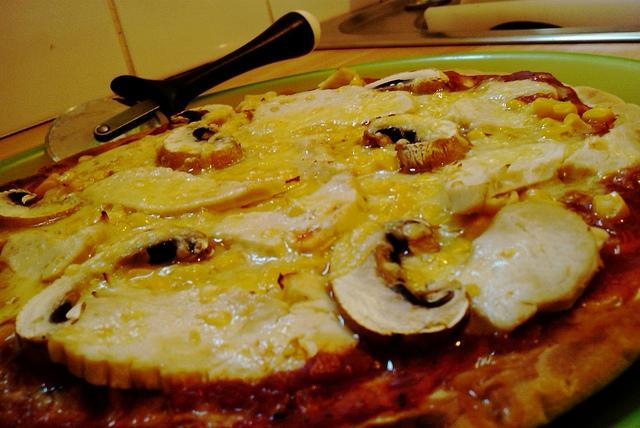mushroom: (16, 225, 212, 364), (331, 244, 471, 351), (361, 113, 472, 176), (38, 212, 108, 280), (154, 125, 247, 175), (0, 188, 85, 228), (365, 68, 449, 95), (171, 103, 233, 125), (22, 192, 38, 206)
